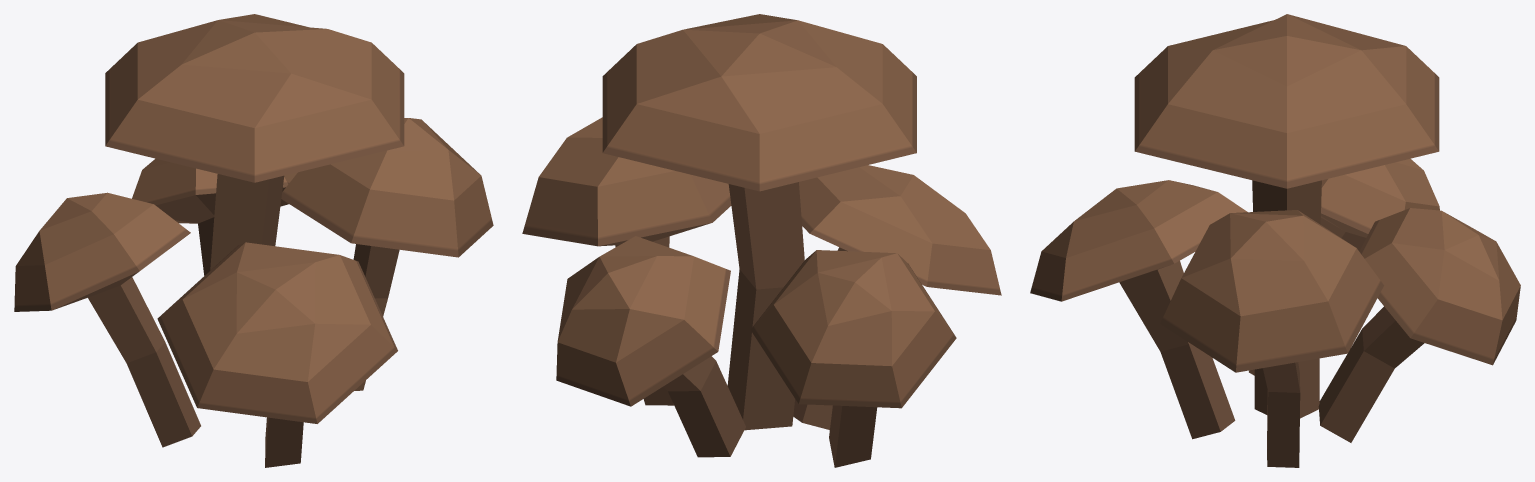
The model's file is SM_Prop_Mushroom_Group_02.fbx.
3 views of the same model, side by side, from view 1: azimuth 30°, elevation 25°; view 2: azimuth 150°, elevation 25°; view 3: azimuth 270°, elevation 25° (orthographic). The views are drawn at different scales.
Visible parts, largest first — view 1: SM_Prop_Mushroom_Group_02; view 2: SM_Prop_Mushroom_Group_02; view 3: SM_Prop_Mushroom_Group_02.
Part boxes in pixels (<box>): SM_Prop_Mushroom_Group_02: <box>14,14,493,467</box>; SM_Prop_Mushroom_Group_02: <box>522,14,1001,467</box>; SM_Prop_Mushroom_Group_02: <box>1030,14,1520,467</box>.
Size of the model in its own units: 22.82 by 21.3 by 23.3.
1 material, 1 textured.
